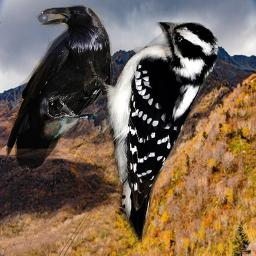Crow: (6, 5, 114, 172)
Woodpecker: (84, 22, 219, 248)
